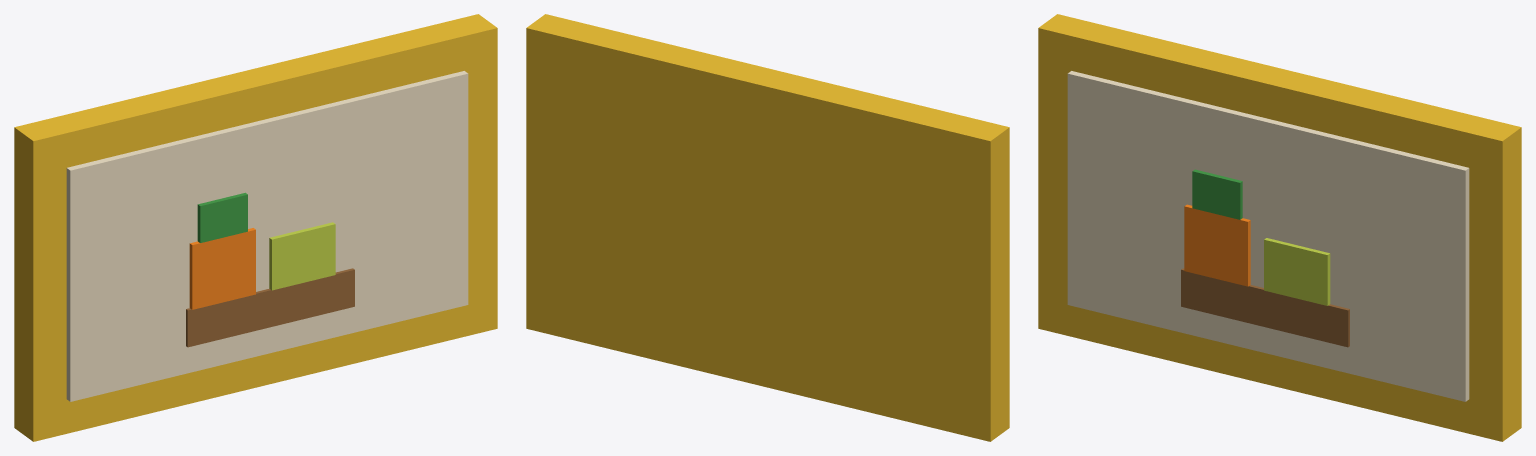
Rendered from loot_painting_large.glb.
3 renders of one model, left to right at view 1: azimuth 30°, elevation 25°; view 2: azimuth 150°, elevation 25°; view 3: azimuth 330°, elevation 25°, orthographic.
Visible parts, largest first — view 1: item; view 2: item; view 3: item.
Boxes of the visible parts, box(x1,y1,x2,y2) form: item: box(14, 14, 497, 441); item: box(526, 14, 1009, 441); item: box(1038, 14, 1521, 441).
Size of the model in its own units: 0.42 by 0.26 by 0.04.
1 material, 1 textured.
